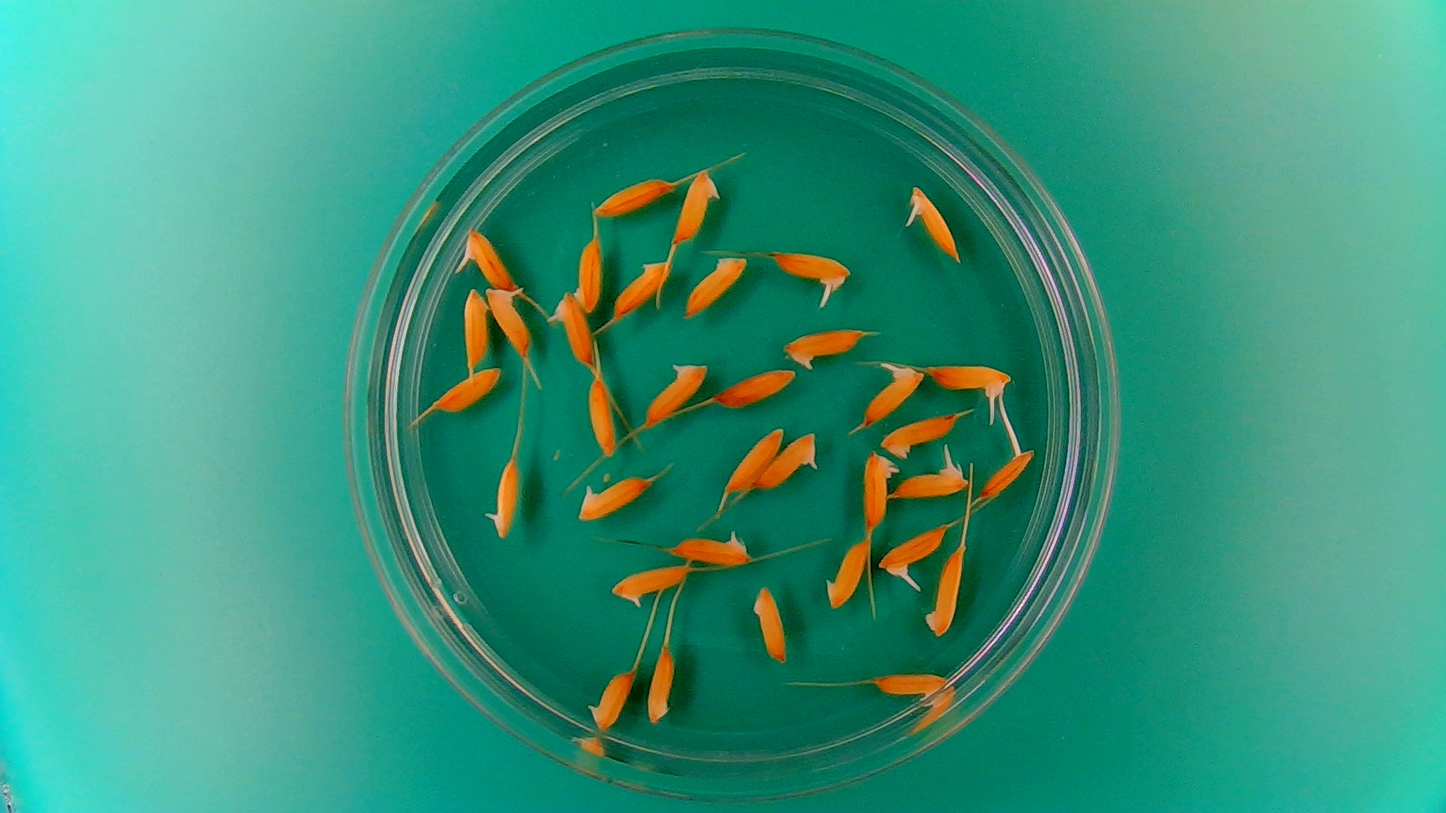no: (722, 424, 789, 492), (683, 252, 749, 320), (429, 364, 505, 416), (877, 410, 958, 458), (611, 257, 672, 319), (673, 166, 721, 244), (822, 535, 870, 613), (712, 367, 797, 410), (592, 174, 675, 218), (749, 584, 789, 665), (587, 666, 636, 732), (928, 545, 963, 636), (869, 667, 954, 703), (586, 375, 618, 458), (459, 285, 490, 370), (573, 233, 605, 314), (646, 642, 676, 727)
yes: (641, 356, 709, 429), (859, 356, 926, 426), (572, 468, 654, 524), (755, 429, 822, 492), (782, 324, 870, 371), (484, 283, 535, 358), (911, 187, 961, 263), (880, 522, 950, 574), (767, 251, 851, 291), (463, 230, 518, 291), (607, 565, 687, 606), (977, 445, 1032, 504), (859, 450, 899, 530), (667, 531, 752, 568), (554, 290, 593, 364), (927, 362, 1014, 394), (889, 464, 964, 500), (487, 454, 519, 537)
